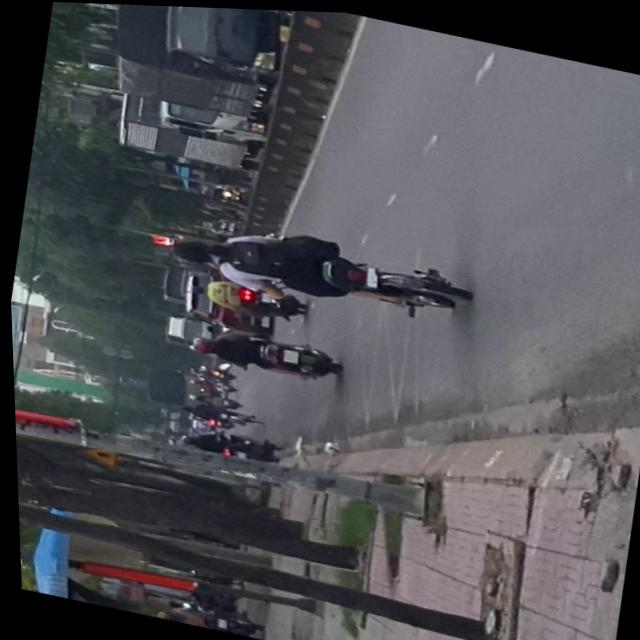licenseplate: (158, 204, 472, 332)
motorcyclist: (165, 231, 218, 267)
